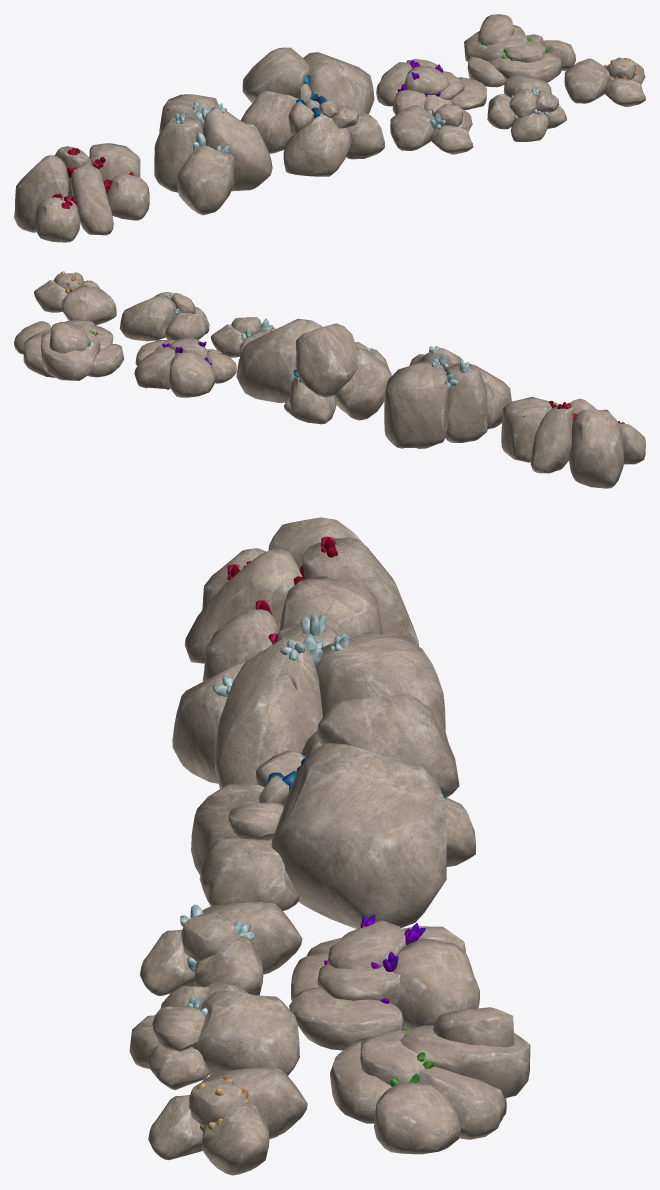
Rendered from Crystal Rocks A.fbx.
The picture shows the model from 3 angles, top to bottom: view 1: azimuth 30°, elevation 25°; view 2: azimuth 150°, elevation 25°; view 3: azimuth 270°, elevation 25°; orthographic projection. The views are drawn at different scales.
Parts seen in each view (by area): view 1: Rock_Lapis_1A1, Rock_Ruby_1A1, Rock_Crystal_1A3, Rock_Emerald_1A1, Rock_Amethyst_1A1, Rock_Crystal_1A1, Rock_Crystal_1A2, Rock_Topaz_1A1; view 2: Rock_Lapis_1A1, Rock_Crystal_1A3, Rock_Ruby_1A1, Rock_Emerald_1A1, Rock_Amethyst_1A1, Rock_Crystal_1A1, Rock_Topaz_1A1, Rock_Crystal_1A2; view 3: Rock_Lapis_1A1, Rock_Crystal_1A3, Rock_Emerald_1A1, Rock_Ruby_1A1, Rock_Amethyst_1A1, Rock_Crystal_1A1, Rock_Topaz_1A1, Rock_Crystal_1A2.
Part boxes in pixels (x1=…): Rock_Lapis_1A1: x1=240, y1=47, x2=384, y2=176; Rock_Ruby_1A1: x1=14, y1=143, x2=149, y2=242; Rock_Crystal_1A3: x1=154, y1=94, x2=272, y2=215; Rock_Emerald_1A1: x1=464, y1=14, x2=575, y2=87; Rock_Amethyst_1A1: x1=376, y1=59, x2=486, y2=114; Rock_Crystal_1A1: x1=487, y1=74, x2=566, y2=141; Rock_Crystal_1A2: x1=390, y1=104, x2=473, y2=154; Rock_Topaz_1A1: x1=564, y1=57, x2=645, y2=106; Rock_Lapis_1A1: x1=236, y1=318, x2=391, y2=424; Rock_Crystal_1A3: x1=384, y1=346, x2=511, y2=448; Rock_Ruby_1A1: x1=501, y1=396, x2=645, y2=488; Rock_Emerald_1A1: x1=14, y1=320, x2=124, y2=380; Rock_Amethyst_1A1: x1=134, y1=338, x2=236, y2=397; Rock_Crystal_1A1: x1=119, y1=292, x2=209, y2=341; Rock_Topaz_1A1: x1=34, y1=271, x2=116, y2=325; Rock_Crystal_1A2: x1=211, y1=317, x2=275, y2=357; Rock_Lapis_1A1: x1=191, y1=694, x2=475, y2=928; Rock_Crystal_1A3: x1=172, y1=614, x2=445, y2=788; Rock_Emerald_1A1: x1=330, y1=1007, x2=530, y2=1154; Rock_Ruby_1A1: x1=184, y1=517, x2=418, y2=681; Rock_Amethyst_1A1: x1=289, y1=914, x2=479, y2=1050; Rock_Crystal_1A1: x1=129, y1=982, x2=299, y2=1089; Rock_Topaz_1A1: x1=148, y1=1067, x2=307, y2=1175; Rock_Crystal_1A2: x1=139, y1=901, x2=302, y2=995.
Size of the model in its own units: 3557 by 574 by 1019.
